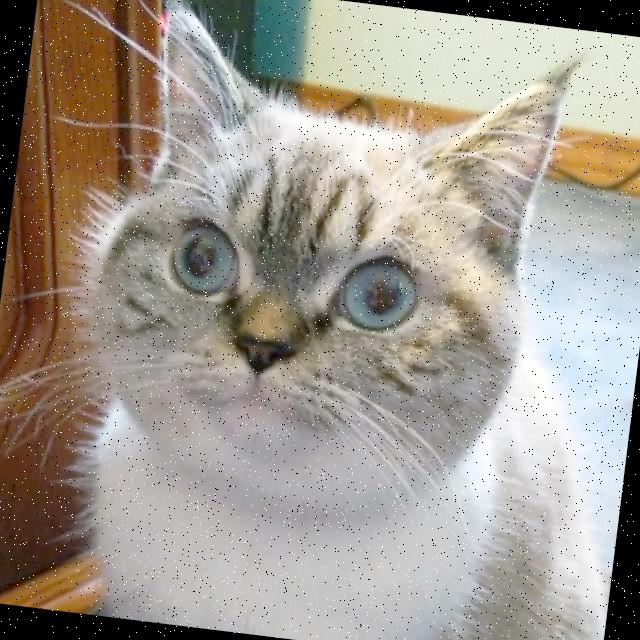Surprised: (90, 156, 468, 474)
